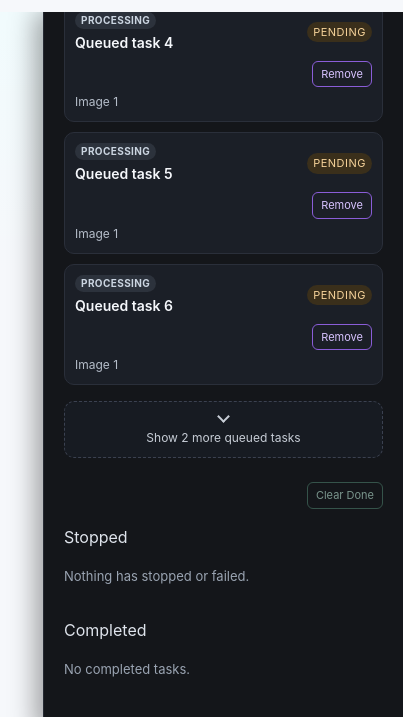
Test: JobQueueSidebar › limits queued tasks to six visible rows and expands in batches of six
(page scrolled)
Expected: the text "Queued task 6" is shown, [75,296,173,314]
Expected: the text "Queued task 7" is not shown
Click the button "Show 2 more queued tasks". click: (224, 430)
box: [64,401,383,458]
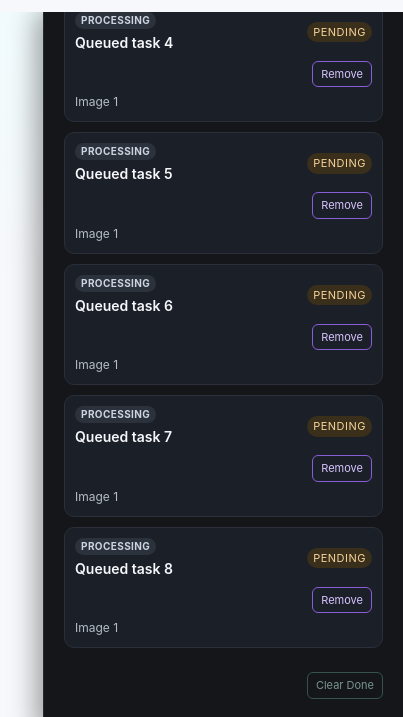
Expected: the text "Queued task 7" is shown, [75,428,172,445]
Expected: the text "Queued task 8" is shown, [75,560,173,576]
Expected: the button "Show 2 more queued tasks" is gone
